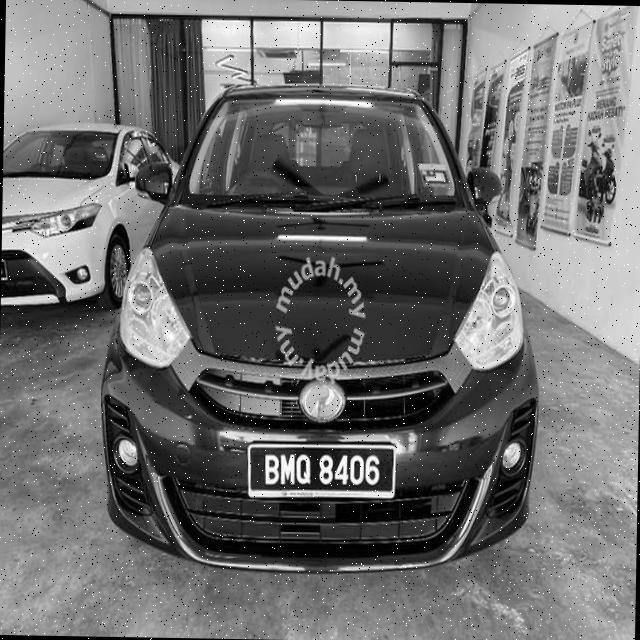License_Plate: (240, 434, 410, 505)
car: (96, 71, 548, 588)
